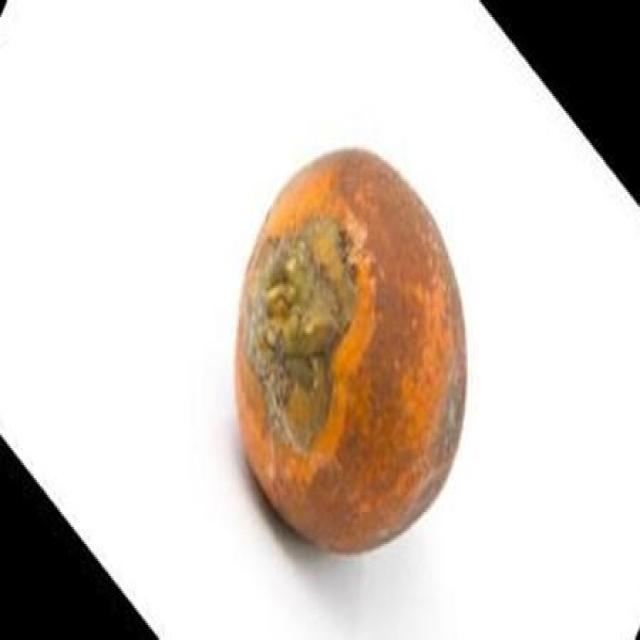good: (235, 151, 469, 559)
